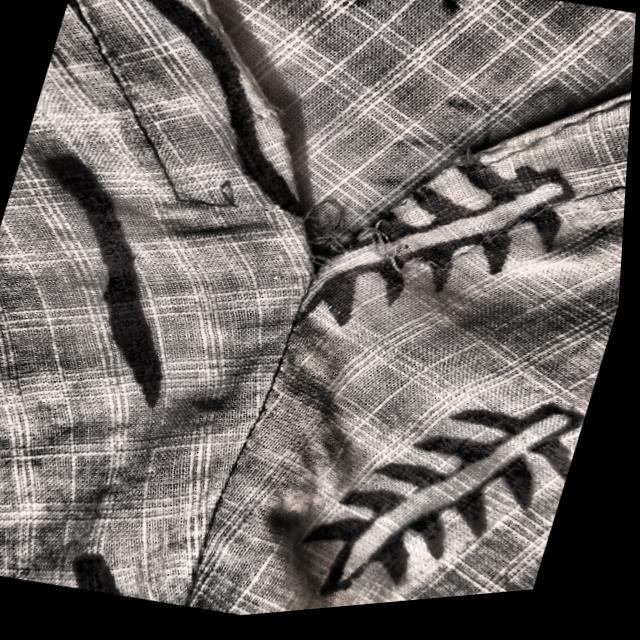Stitch: (262, 156, 565, 385), (112, 137, 293, 238)
